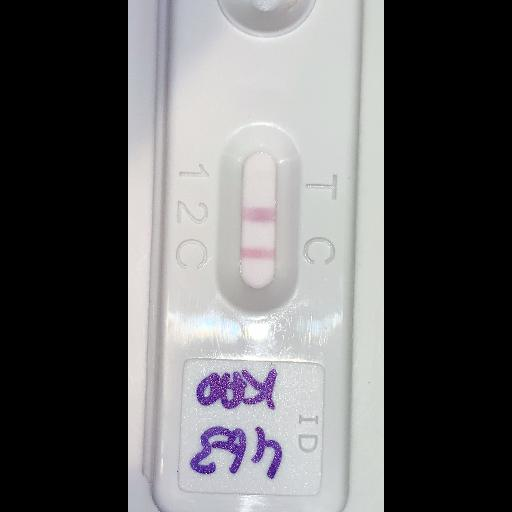Pos: (159, 0, 352, 511)
